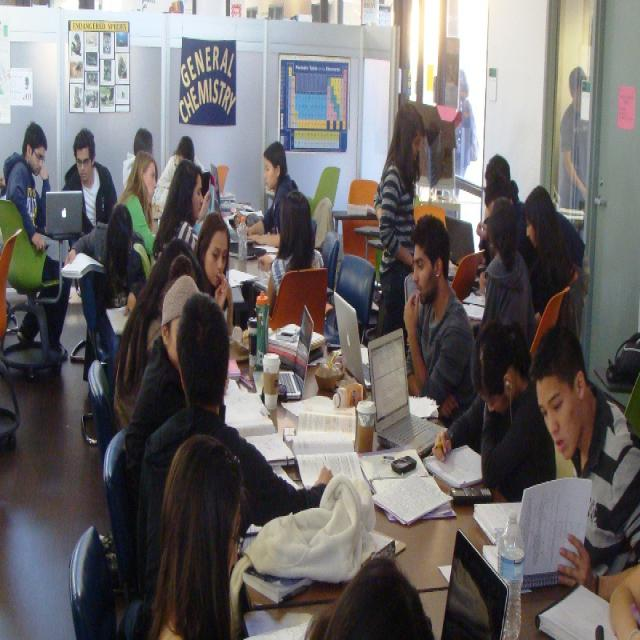body: (128, 288, 336, 607), (528, 321, 639, 608), (120, 248, 231, 487), (430, 316, 558, 504), (144, 436, 246, 640), (111, 236, 206, 436), (475, 175, 587, 336), (2, 117, 74, 366), (63, 200, 152, 396), (402, 213, 479, 424), (232, 187, 326, 352), (60, 124, 120, 381), (302, 537, 439, 640), (372, 100, 427, 340), (473, 194, 542, 358), (522, 184, 585, 345), (151, 159, 205, 269), (246, 139, 300, 248), (558, 65, 591, 243), (192, 209, 235, 339), (594, 544, 640, 640), (119, 149, 159, 256), (152, 133, 196, 220), (454, 68, 478, 219), (122, 125, 154, 187), (483, 152, 515, 208), (0, 171, 8, 209)
